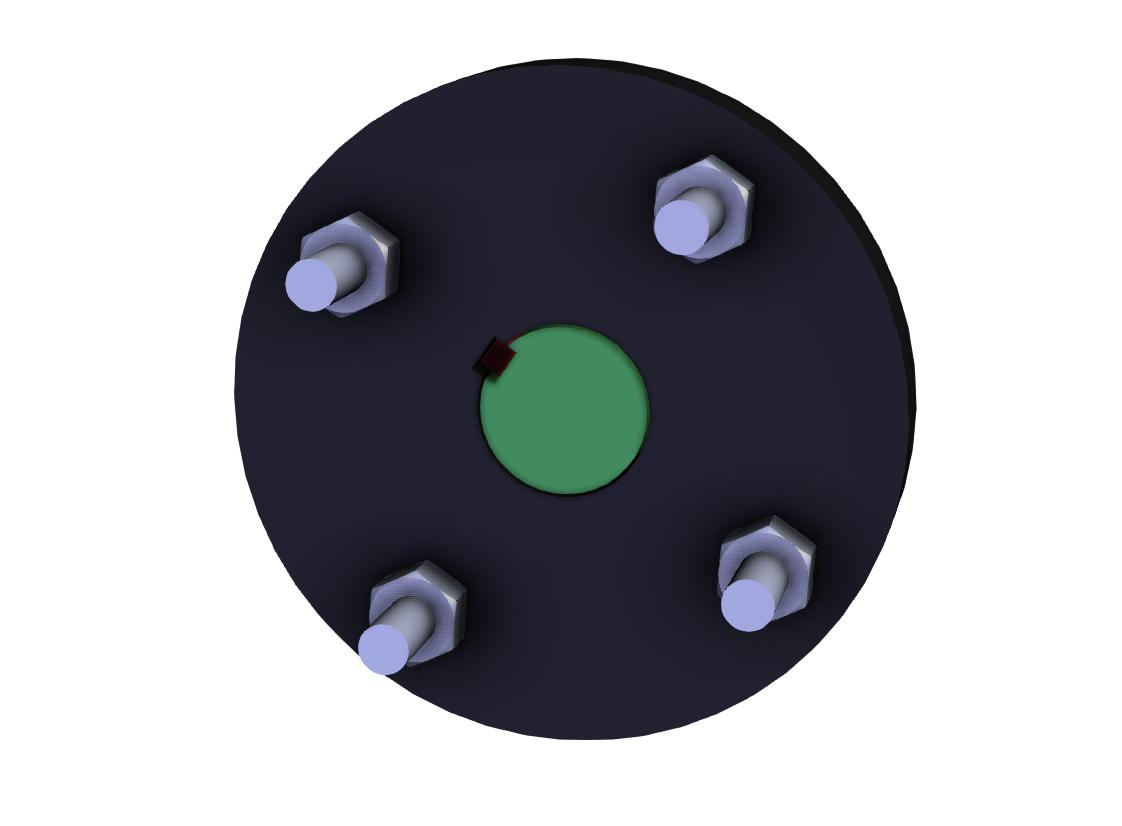bolt_b: (296, 210, 403, 325), (366, 555, 468, 672), (655, 154, 759, 267), (718, 515, 818, 628)
